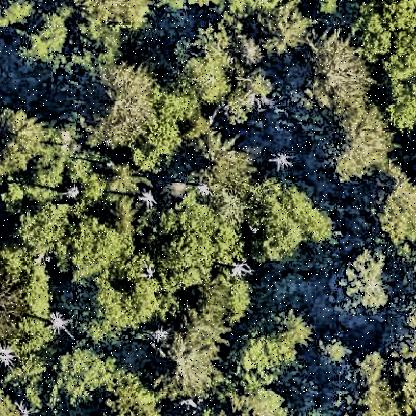tree-top: (250, 169, 338, 263), (149, 202, 239, 289), (223, 309, 311, 387), (1, 244, 55, 360), (75, 274, 159, 342), (94, 66, 160, 152), (294, 33, 366, 110), (321, 106, 391, 176), (148, 332, 216, 402), (357, 1, 416, 77), (46, 347, 114, 403), (72, 216, 128, 279), (338, 250, 393, 314), (76, 2, 154, 47), (187, 41, 237, 107), (19, 200, 80, 253), (1, 105, 45, 177), (372, 180, 416, 250), (229, 72, 285, 122), (256, 3, 313, 52), (195, 137, 244, 187), (29, 12, 70, 62), (108, 378, 160, 416), (236, 389, 286, 416), (319, 335, 351, 375)
